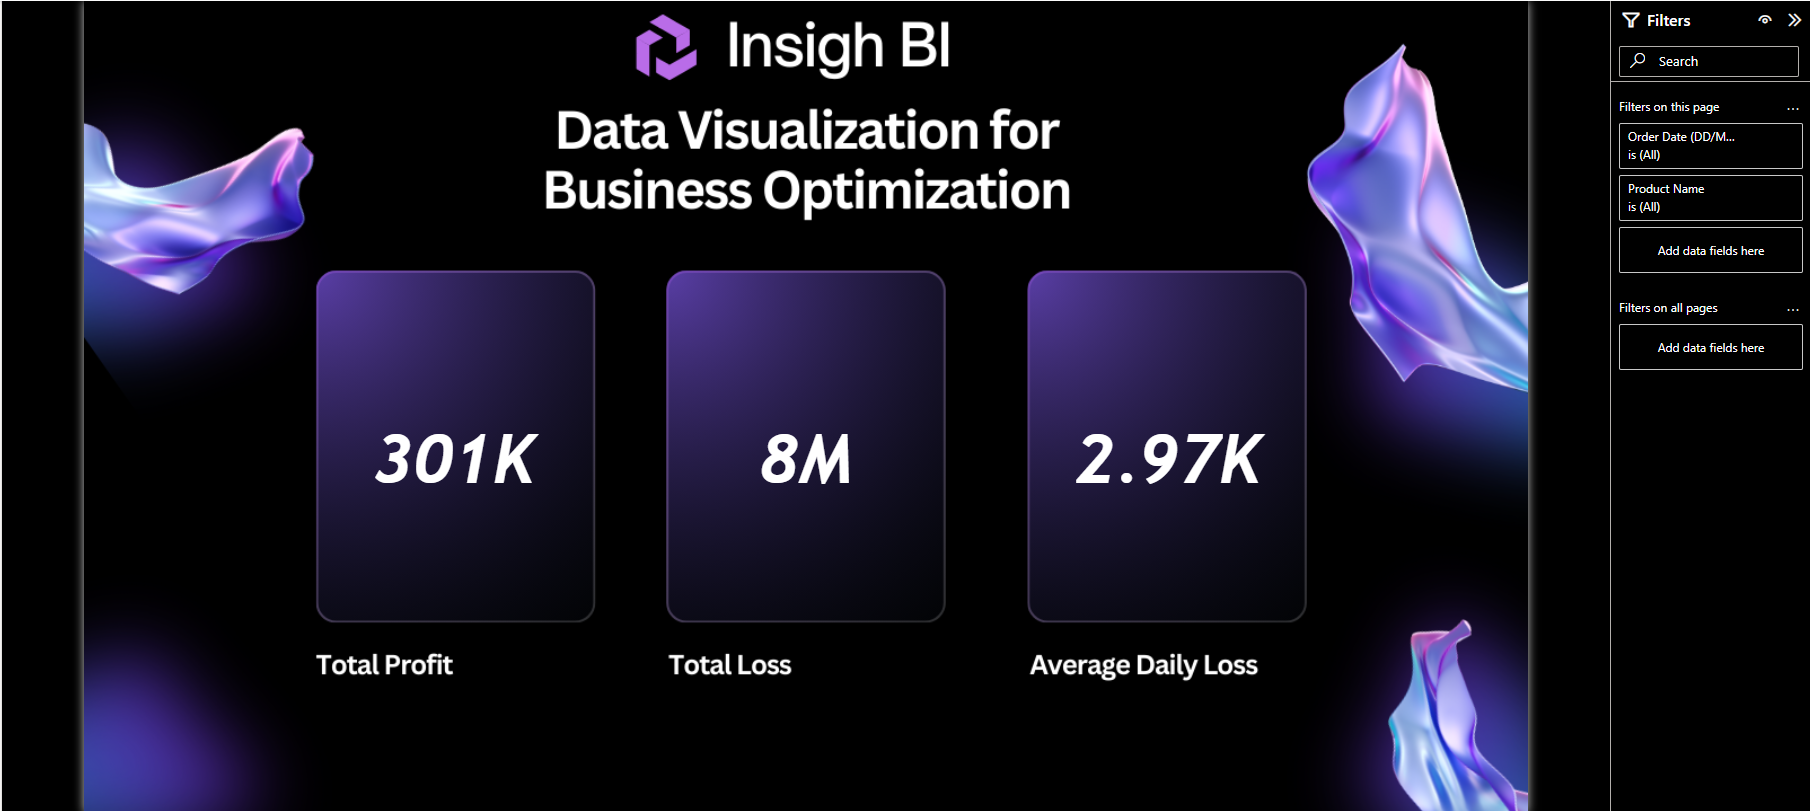

Layout of this report page (visuals, bound fields, positions):
{"tool":"powerbi","page":{"name":"Page 2","canvas":[1280,720],"ordinal":1},"visuals":[{"type":"card","fields":{"Values":["Measures Table.Total Profit"]},"box":[215.5,264.2,227,274.9],"z":0},{"type":"card","fields":{"Values":["Measures Table.TOTAL LOSS"]},"box":[526.7,263.8,226.6,274.9],"z":1000},{"type":"card","fields":{"Values":["Measures Table.Average Loss Per Day"]},"box":[849,263.8,226.6,274.9],"z":2000}]}

Visuals, with their boxes on the page's 1280x720 design canvas (x1, y1, x2, y2). These are canvas units, not pixel positions in the 1810x811 screenshot, which may show the page scaled, cropped or inside an application window:
card - Measures Table.Total Profit: rect(216, 264, 442, 539)
card - Measures Table.TOTAL LOSS: rect(527, 264, 753, 539)
card - Measures Table.Average Loss Per Day: rect(849, 264, 1076, 539)
